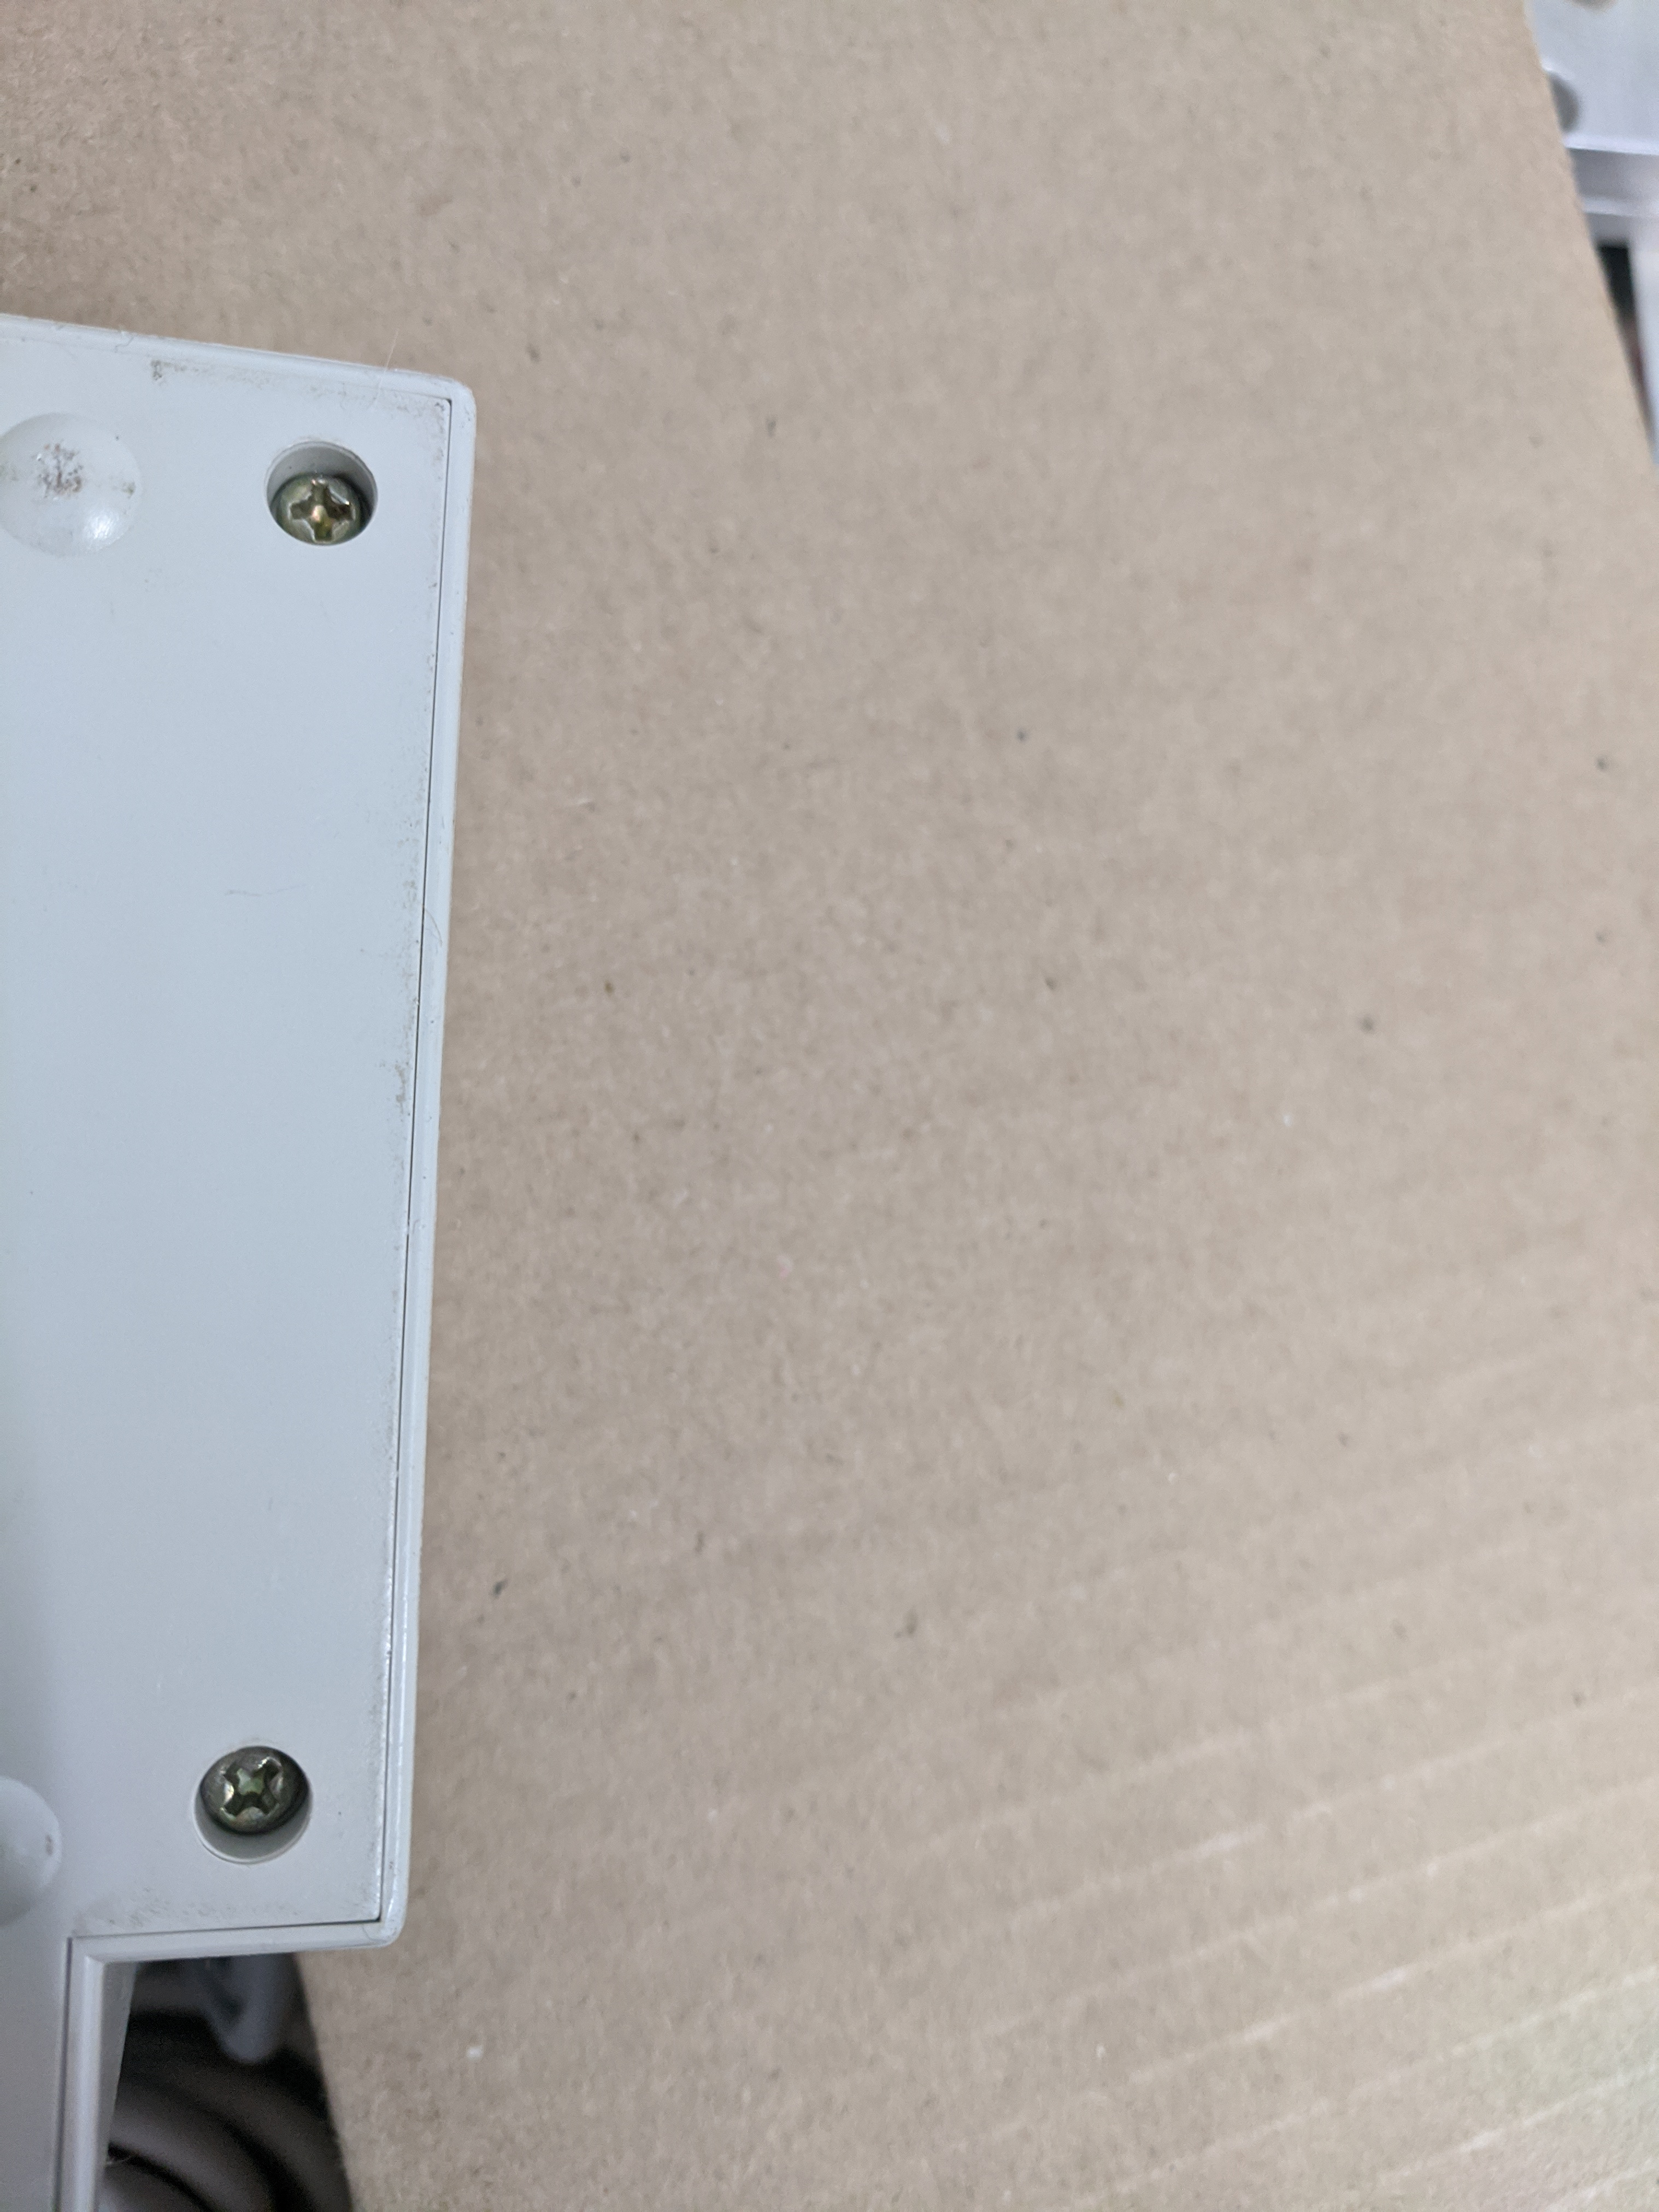cross_recessed_screw: (188, 1737, 308, 1855), (258, 446, 378, 545)
